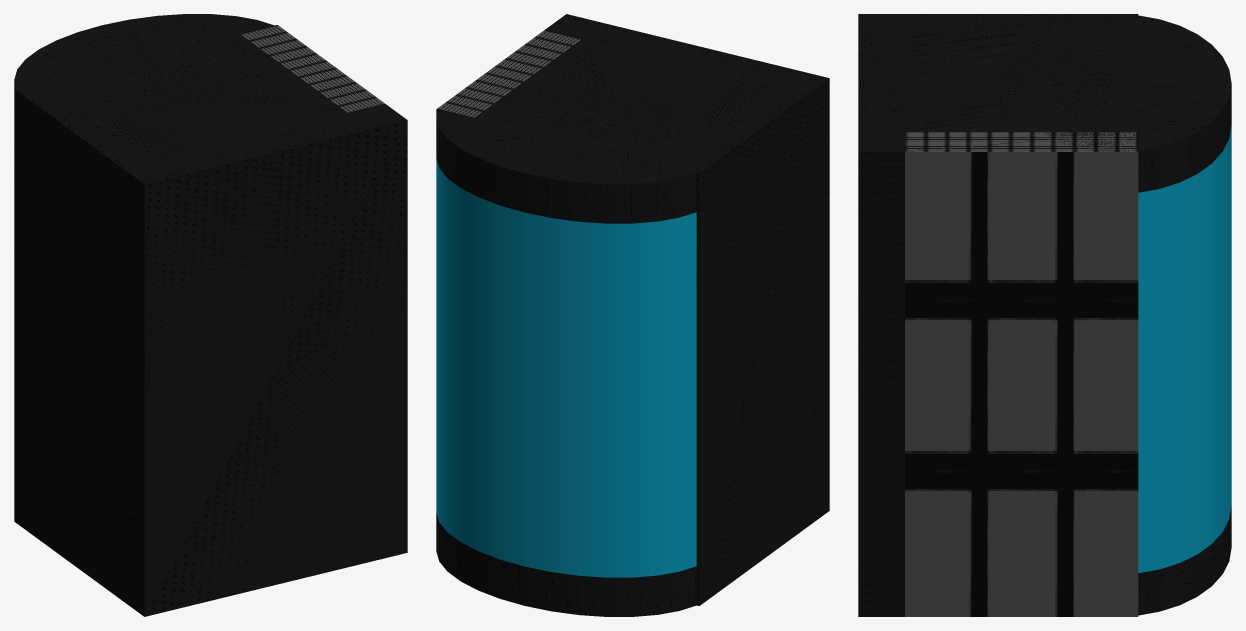
The model's file is Koelkast_Deur_animatie.fbx.
3 views of the same model, side by side, from view 1: azimuth 30°, elevation 25°; view 2: azimuth 150°, elevation 25°; view 3: azimuth 270°, elevation 25° (orthographic). The views are drawn at different scales.
Parts seen in each view (by area): view 1: Left_wall; view 2: Left_wall, Cylinder; view 3: Left_wall, Cylinder.
Part boxes in pixels (x1=…): Left_wall: x1=14, y1=14, x2=407, y2=616; Left_wall: x1=436, y1=14, x2=829, y2=616; Cylinder: x1=436, y1=159, x2=696, y2=577; Left_wall: x1=858, y1=14, x2=1231, y2=616; Cylinder: x1=1138, y1=126, x2=1231, y2=573.
Bounding box in the file's own units: 2.8 × 4.4 × 3.2.
